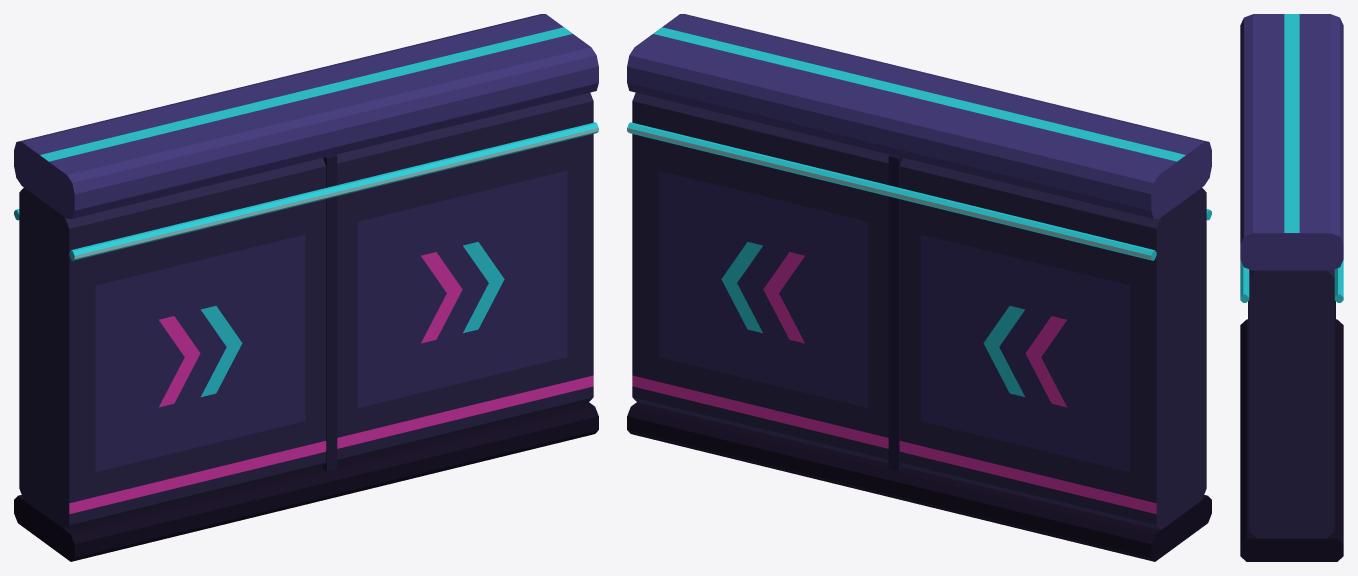
Rendered from neon-plotwall1.glb.
3 views of the same model, side by side, from view 1: azimuth 30°, elevation 25°; view 2: azimuth 150°, elevation 25°; view 3: azimuth 270°, elevation 25° (orthographic). The views are drawn at different scales.
Visible parts, largest first — view 1: neon-plotwall1; view 2: neon-plotwall1; view 3: neon-plotwall1.
Boxes of the visible parts, x1,y1,x2,y2 form: neon-plotwall1: (14, 14, 598, 561); neon-plotwall1: (627, 14, 1211, 561); neon-plotwall1: (1240, 14, 1343, 561).
Bounding box in the file's own units: 2 × 1.4 × 0.401.
